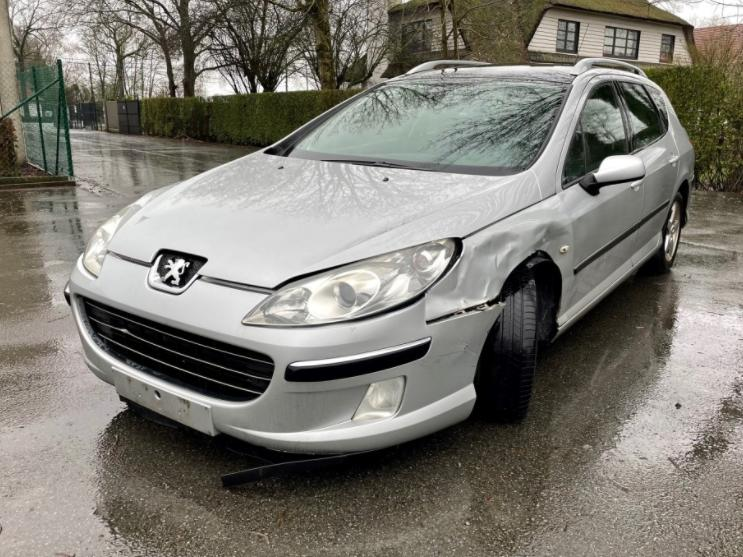Broken part: (272, 235, 465, 325), (107, 246, 279, 297), (424, 294, 507, 326)
Corrosion: (126, 377, 133, 385)
Dent: (426, 195, 573, 323), (560, 273, 597, 315), (593, 255, 611, 273)
Missing part: (114, 368, 214, 437)
Paint chip: (462, 340, 470, 351)
Scratch: (426, 351, 477, 359)
